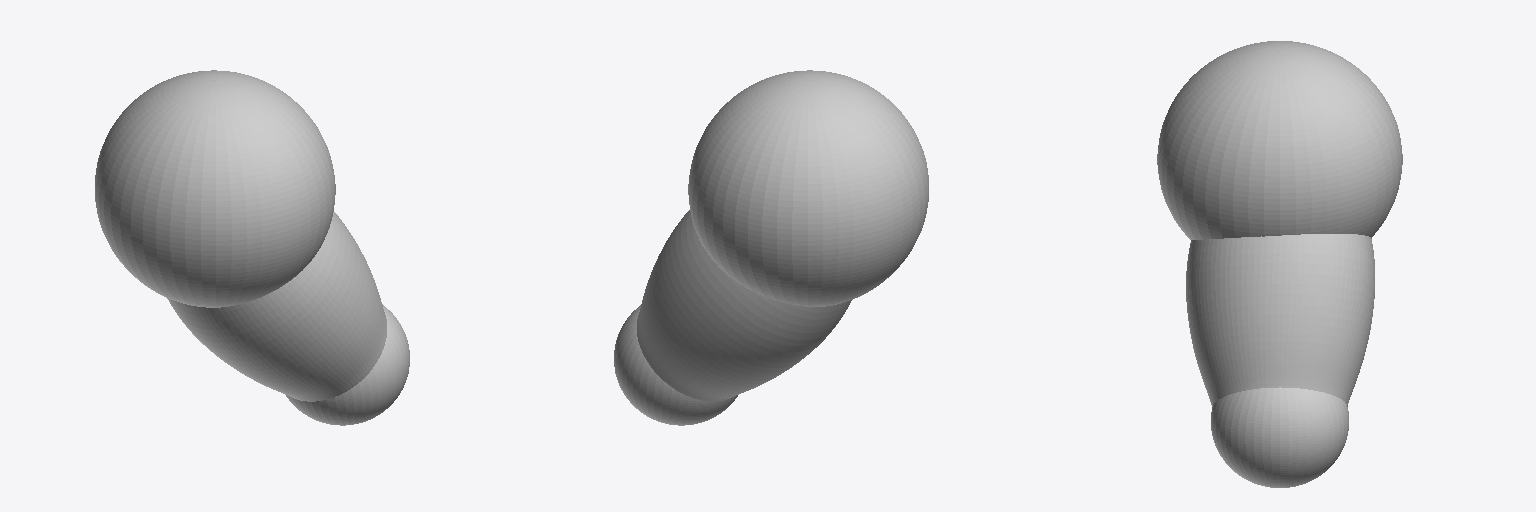
Rendered from uparmLL.obj.
The picture shows the model from 3 angles: view 1: azimuth 30°, elevation 25°; view 2: azimuth 150°, elevation 25°; view 3: azimuth 270°, elevation 25°; orthographic projection.
Parts seen in each view (by area): view 1: uparmL:MeshpolySurface15, uparmL:MeshpolySurface51, uparmL:Mesh; view 2: uparmL:MeshpolySurface15, uparmL:MeshpolySurface51, uparmL:Mesh; view 3: uparmL:MeshpolySurface15, uparmL:MeshpolySurface51, uparmL:Mesh.
Part boxes in pixels (bbox=[...]): uparmL:MeshpolySurface15: bbox=[95, 70, 335, 307]; uparmL:MeshpolySurface51: bbox=[167, 212, 386, 401]; uparmL:Mesh: bbox=[286, 304, 409, 425]; uparmL:MeshpolySurface15: bbox=[688, 70, 928, 306]; uparmL:MeshpolySurface51: bbox=[637, 210, 851, 401]; uparmL:Mesh: bbox=[614, 305, 737, 425]; uparmL:MeshpolySurface15: bbox=[1157, 41, 1402, 239]; uparmL:MeshpolySurface51: bbox=[1186, 234, 1374, 406]; uparmL:Mesh: bbox=[1211, 387, 1348, 487].
Bounding box in the file's own units: 0.3666 × 0.4452 × 0.2691.